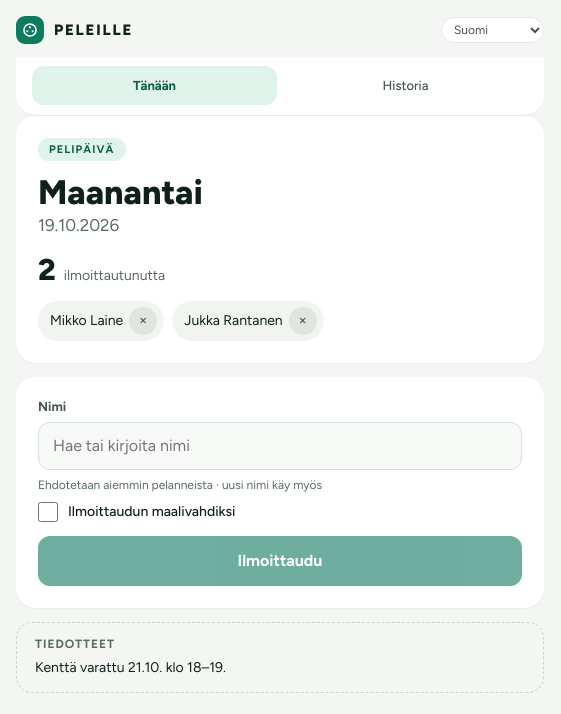
removing a name asks first › the prompt names the player, so it cannot be confirmed for the wrong one
Click the button named "Poista Jukka Rantanen": [303, 321] box 289,307 -> 317,335
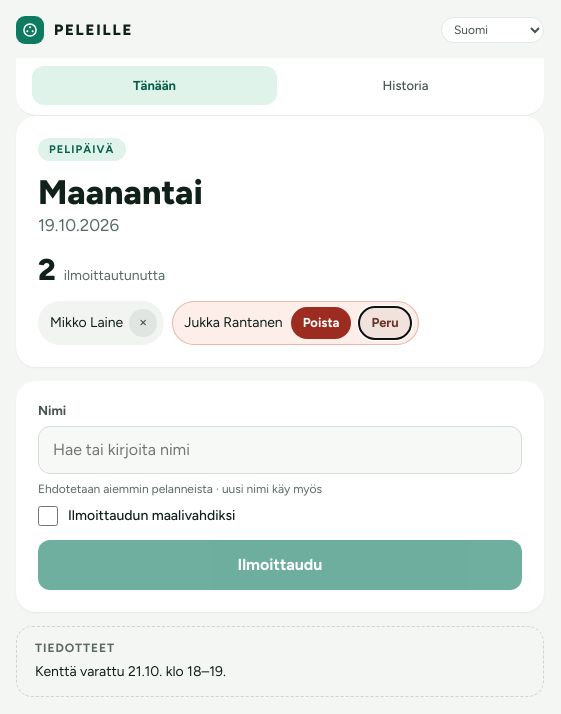
Expected: the button "Poista" is shown, 291,307 -> 352,339
